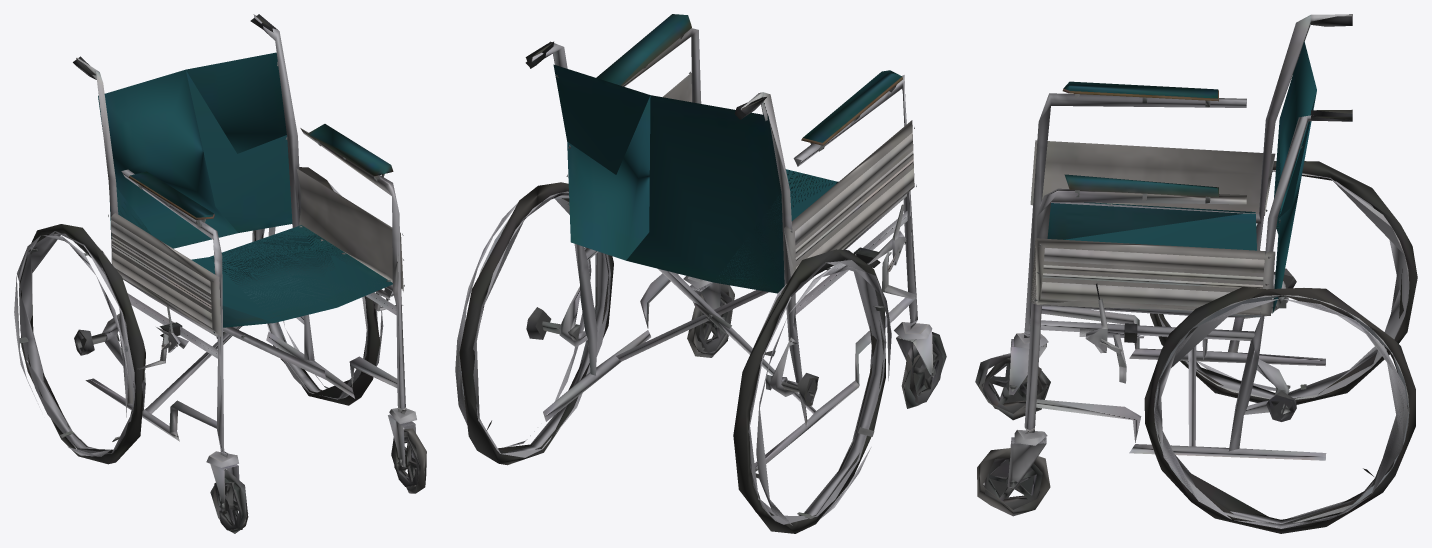
The model's file is wheelchair_01.glb.
3 views of the same model, side by side, from view 1: azimuth 30°, elevation 25°; view 2: azimuth 150°, elevation 25°; view 3: azimuth 270°, elevation 25° (orthographic). The views are drawn at different scales.
Parts seen in each view (by area): view 1: wheelchair_01; view 2: wheelchair_01; view 3: wheelchair_01.
Boxes of the visible parts, x1,y1,x2,y2 form: wheelchair_01: [14, 14, 426, 533]; wheelchair_01: [455, 14, 946, 533]; wheelchair_01: [975, 14, 1417, 533].
Size of the model in its own units: 0.8241 by 1.1 by 1.08.
Materials: 1 (1 with a texture image).
